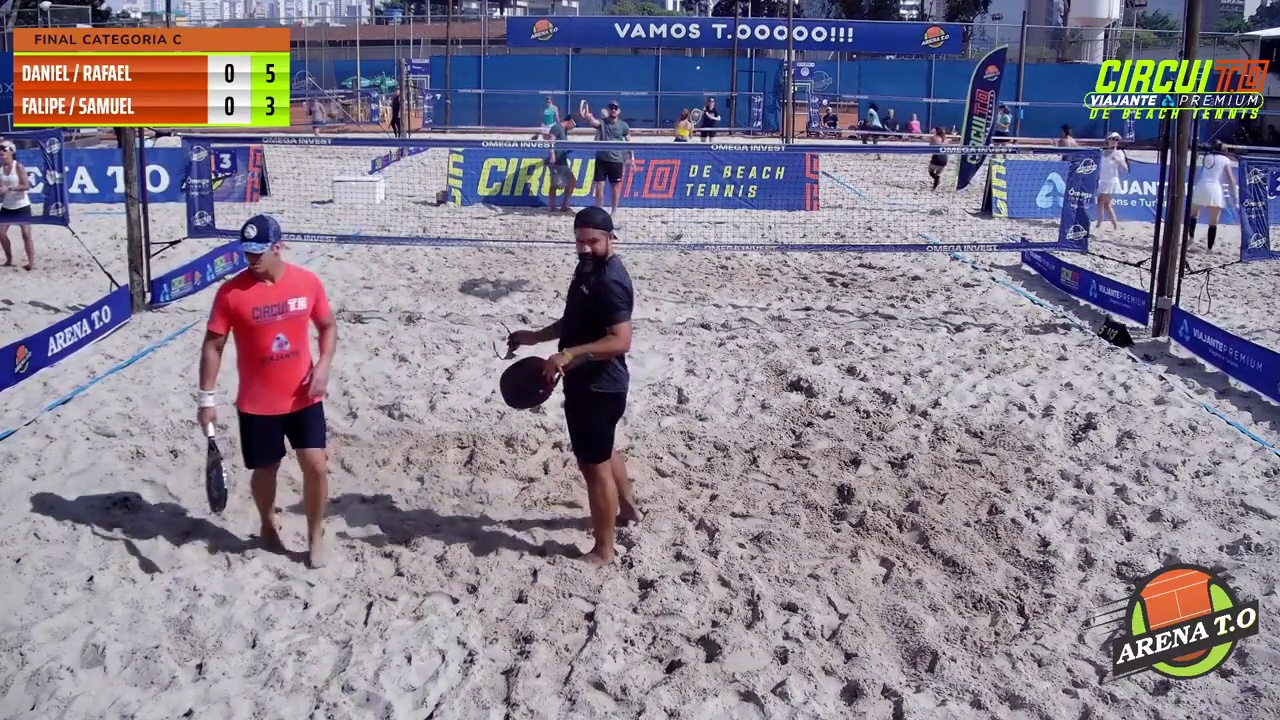court_line: (644, 0, 810, 453)
